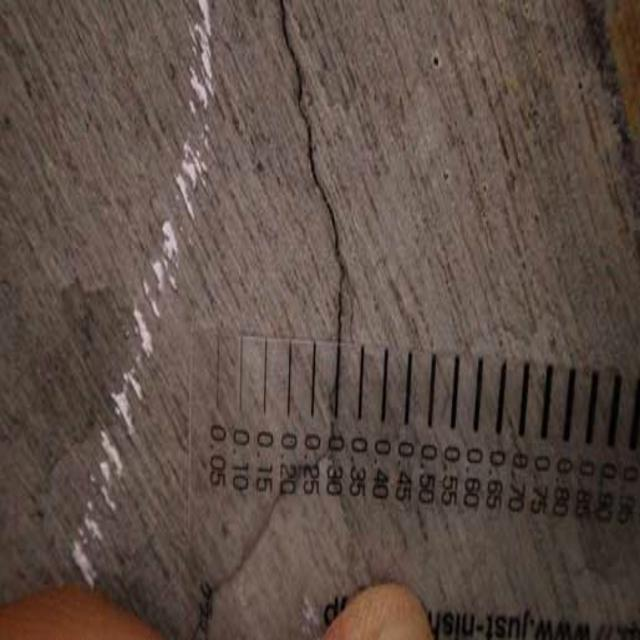crack: (259, 7, 390, 350), (183, 483, 298, 640)
